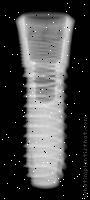Euroteknika: (15, 12, 75, 190)
